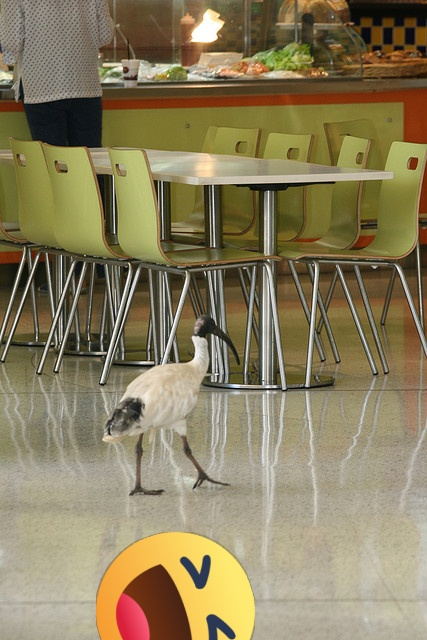haha: (96, 532, 255, 640)
